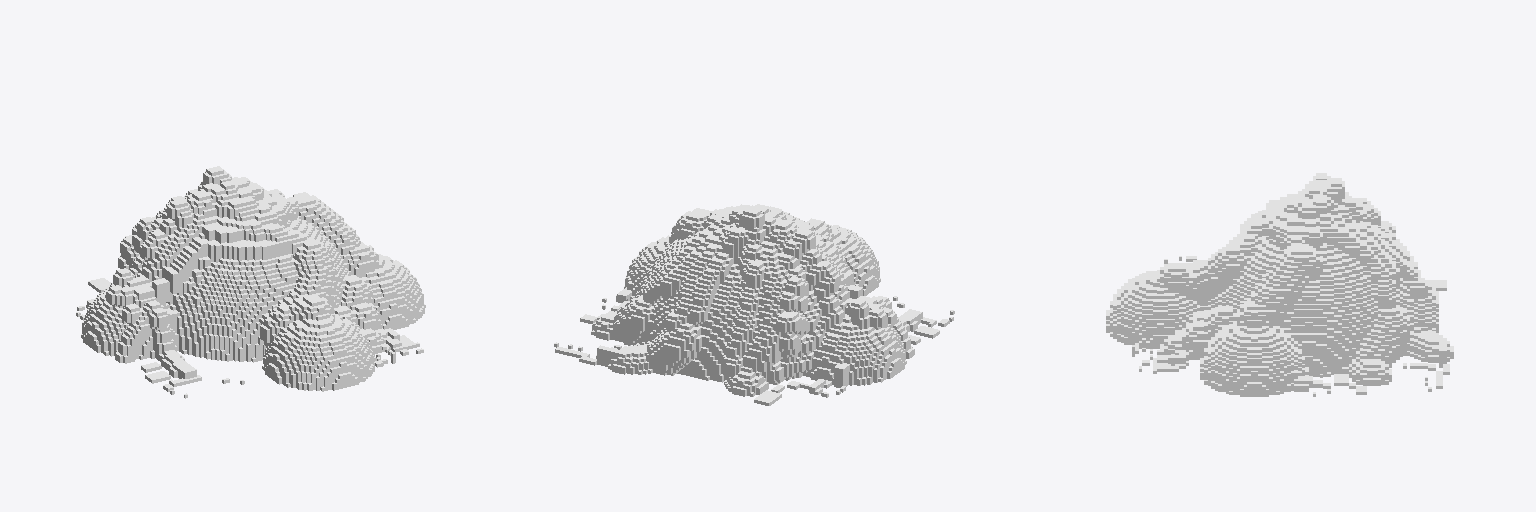
File: gum.obj
3 views of the same model, side by side, from view 1: azimuth 30°, elevation 25°; view 2: azimuth 150°, elevation 25°; view 3: azimuth 270°, elevation 25° (orthographic).
Visible parts, largest first — view 1: gum; view 2: gum; view 3: gum.
Boxes of the visible parts, x1=… form: gum: x1=76, y1=166, x2=425, y2=398; gum: x1=554, y1=204, x2=954, y2=405; gum: x1=1106, y1=173, x2=1453, y2=396.
Bounding box in the file's own units: 94 × 42 × 96.